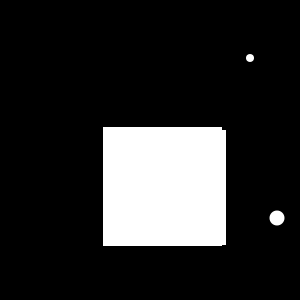circle: (103, 127, 222, 246), (111, 130, 226, 245)
rectangle: (270, 210, 284, 226), (246, 54, 254, 62)
